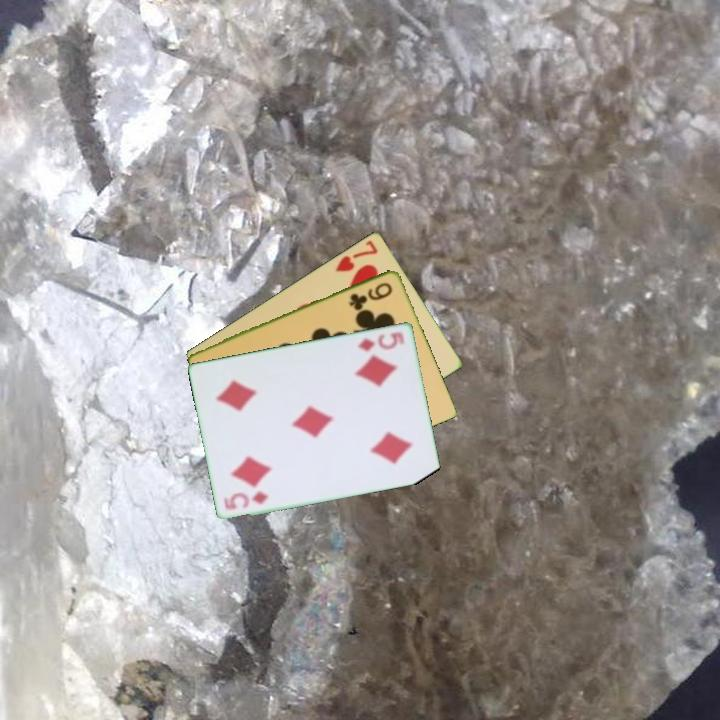5d: (354, 328, 408, 354), (220, 488, 272, 513)
7h: (332, 236, 381, 274)
9c: (346, 278, 395, 311)
